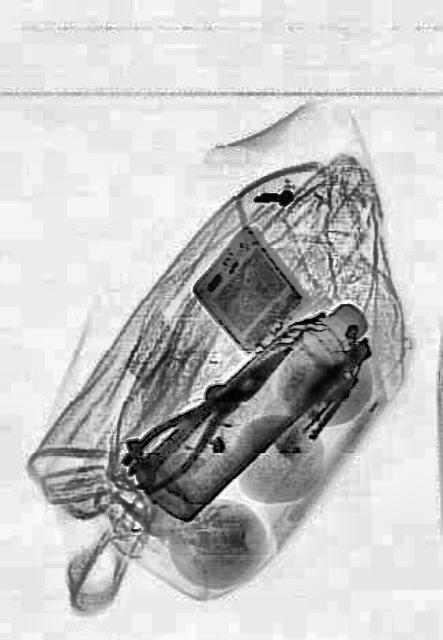Pliers: (119, 318, 302, 504)
Wrench: (124, 378, 233, 494)
